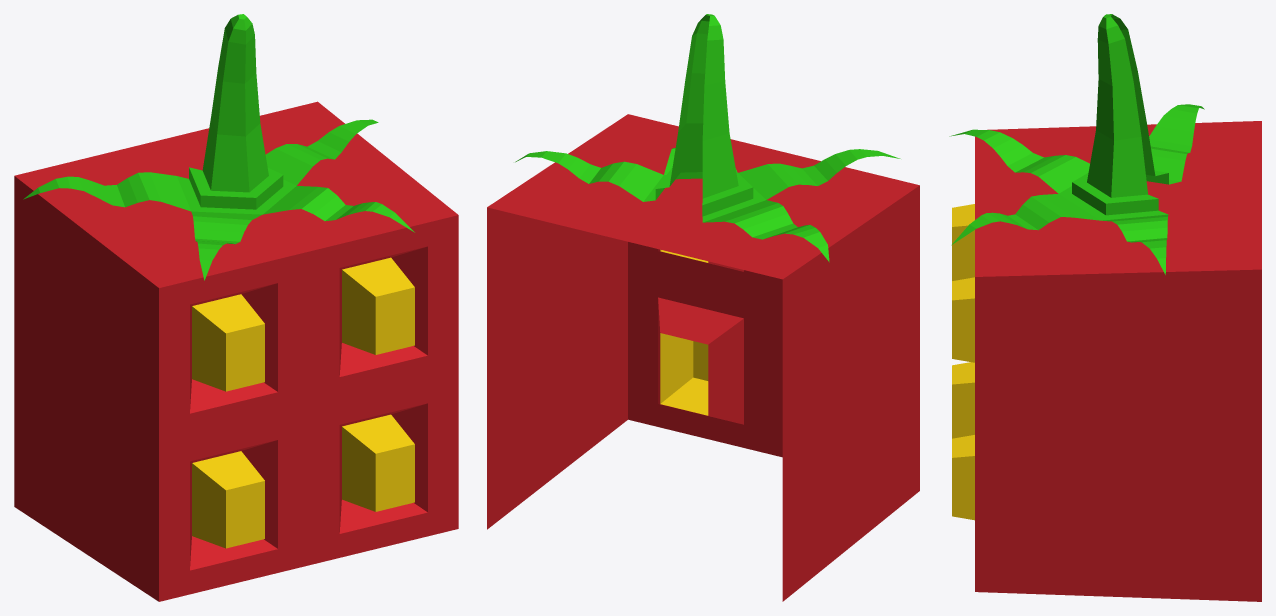
Rendered from finalstraytrial222v999.fbx.
3 views of the same model, side by side, from view 1: azimuth 30°, elevation 25°; view 2: azimuth 150°, elevation 25°; view 3: azimuth 270°, elevation 25° (orthographic). The views are drawn at different scales.
Parts seen in each view (by area): view 1: Cube, Cube.001; view 2: Cube, Cube.001; view 3: Cube, Cube.001.
Part boxes in pixels (<box>): Cube: <box>14,101,458,601</box>; Cube.001: <box>23,14,414,280</box>; Cube: <box>487,114,919,601</box>; Cube.001: <box>515,14,900,262</box>; Cube: <box>952,121,1261,601</box>; Cube.001: <box>949,14,1204,274</box>.
Bounding box in the file's own units: 150 × 211 × 117.
